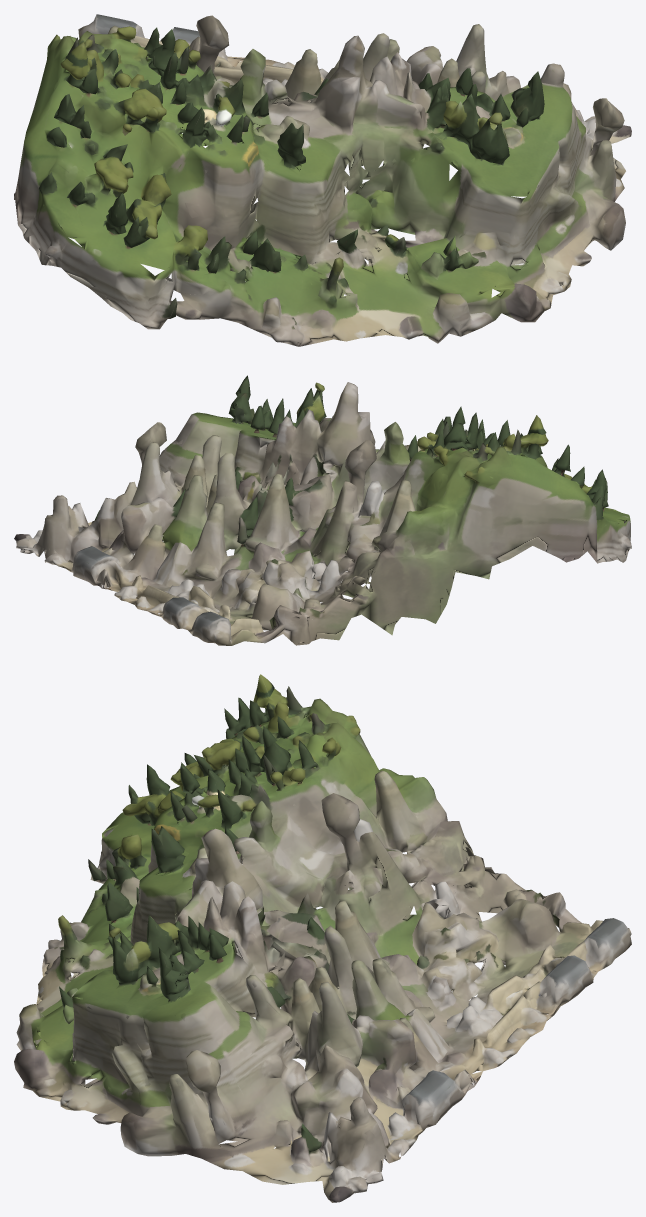
File: isle_12_trellis.glb
3 renders of one model, top to bottom at view 1: azimuth 30°, elevation 25°; view 2: azimuth 150°, elevation 25°; view 3: azimuth 270°, elevation 25°, orthographic. The views are drawn at different scales.
Size of the model in its own units: 0.9213 by 0.3585 by 0.7711.
Materials: 1 (1 with a texture image).
